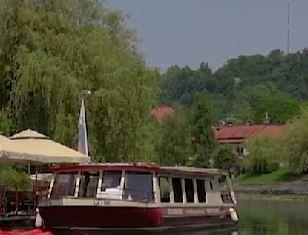Ship: (38, 154, 242, 233)
